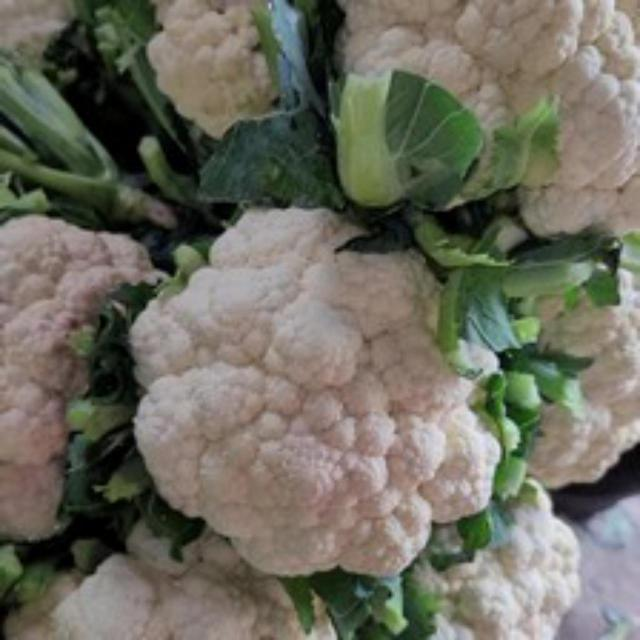cauliflower: (125, 193, 509, 596)
